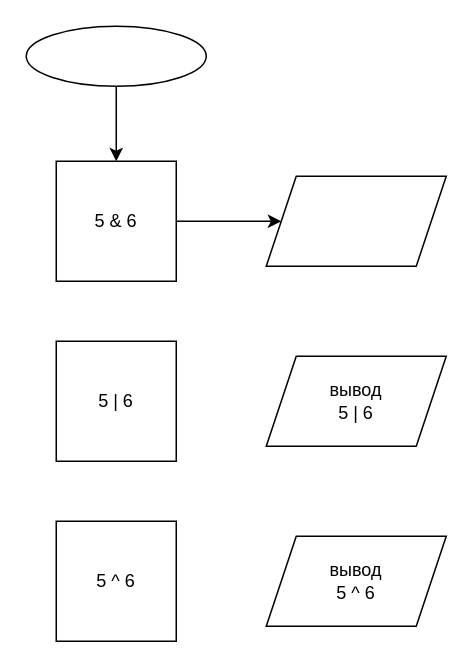
The diagram is 473 pixels wide and 668 high, and some of its shapes have lost their labels. Here are the shapes that lost their labels. From the top down, the centre of each, then its label:
(x=115, y=55): Начало
(x=355, y=220): вывод 5 & 6
